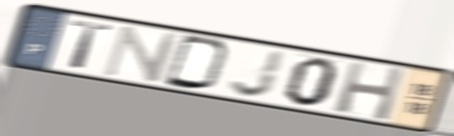0: (283, 56, 341, 108)
D: (162, 32, 234, 92)
H: (332, 59, 407, 124)
J: (227, 48, 288, 99)
N: (101, 24, 183, 84)
T: (68, 19, 115, 72)
